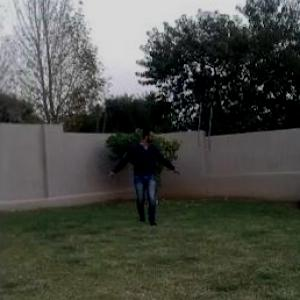land: (96, 104, 184, 243)
